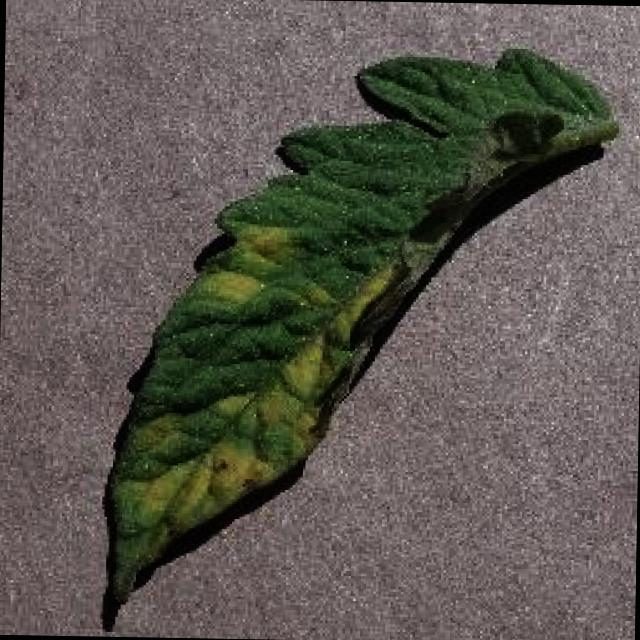Tomato mold leaf: (105, 41, 608, 615)
